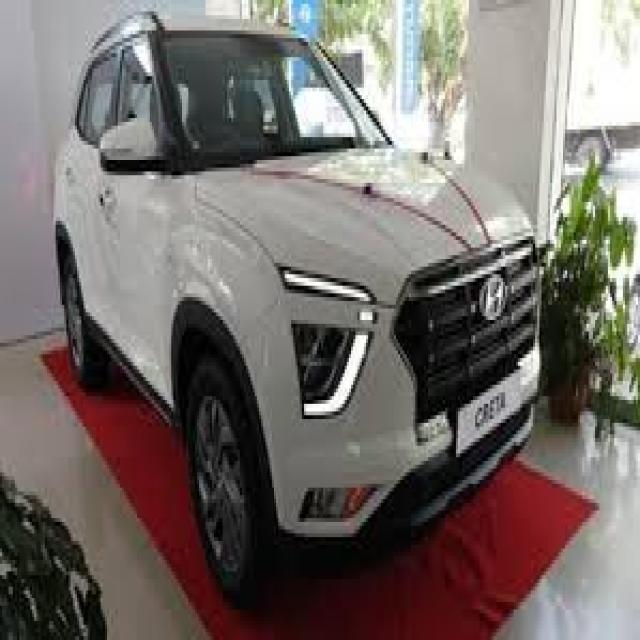SUV: (51, 15, 542, 606)
